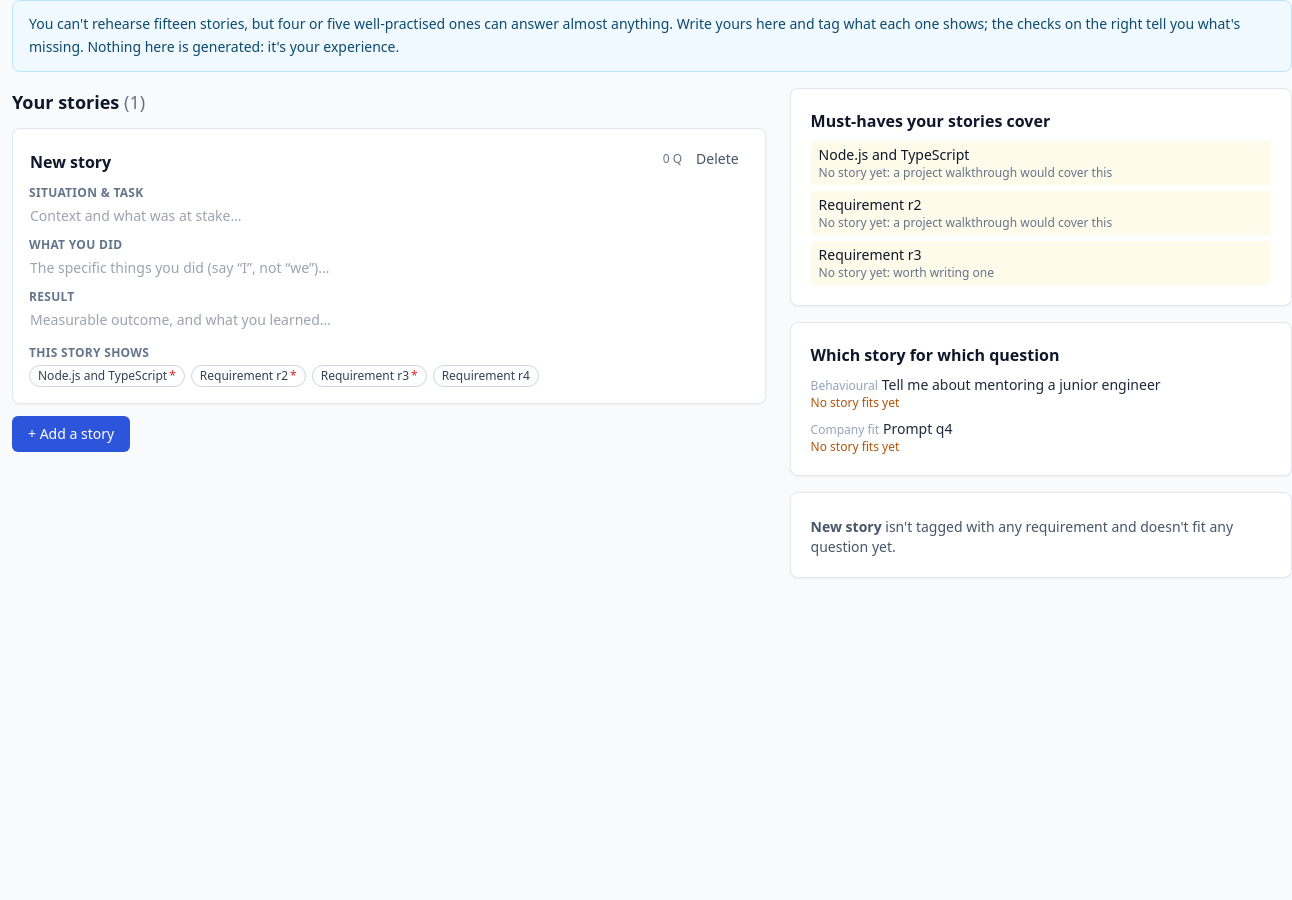
Test: StoryBank › adds, edits, tags and deletes stories; saves after a pause; shows coverage and matches
This screenshot has width=1292, height=900.
Earlier steps of the test are not shown.
Later steps or results of the test are not shown.
Click the button "+ Add a story".
click(71, 434)  # box [12, 416, 130, 452]
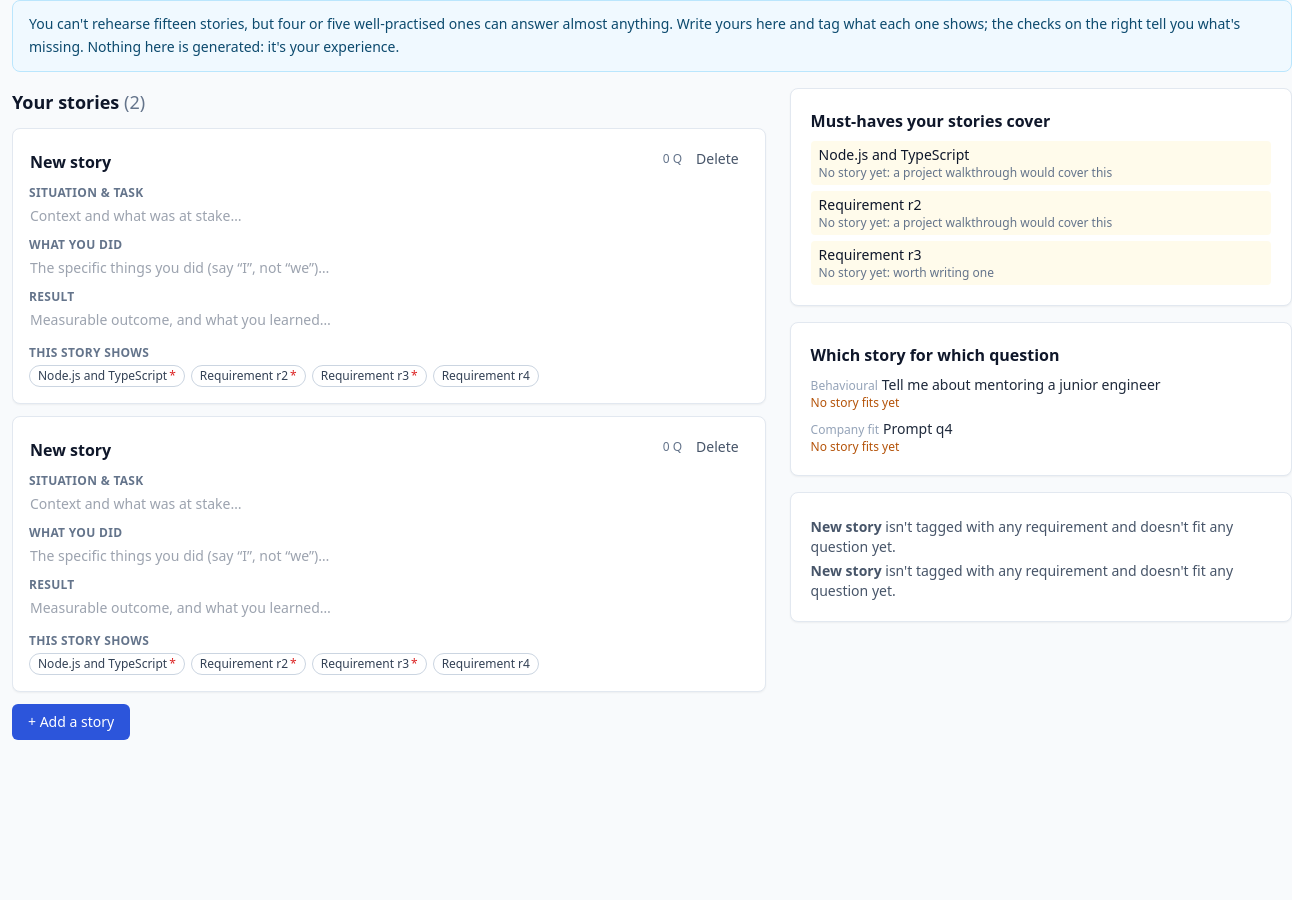
Replace the text in the text box named "Story s1 title" with "Mentoring Sam" at (342, 160), box [23, 144, 661, 176]
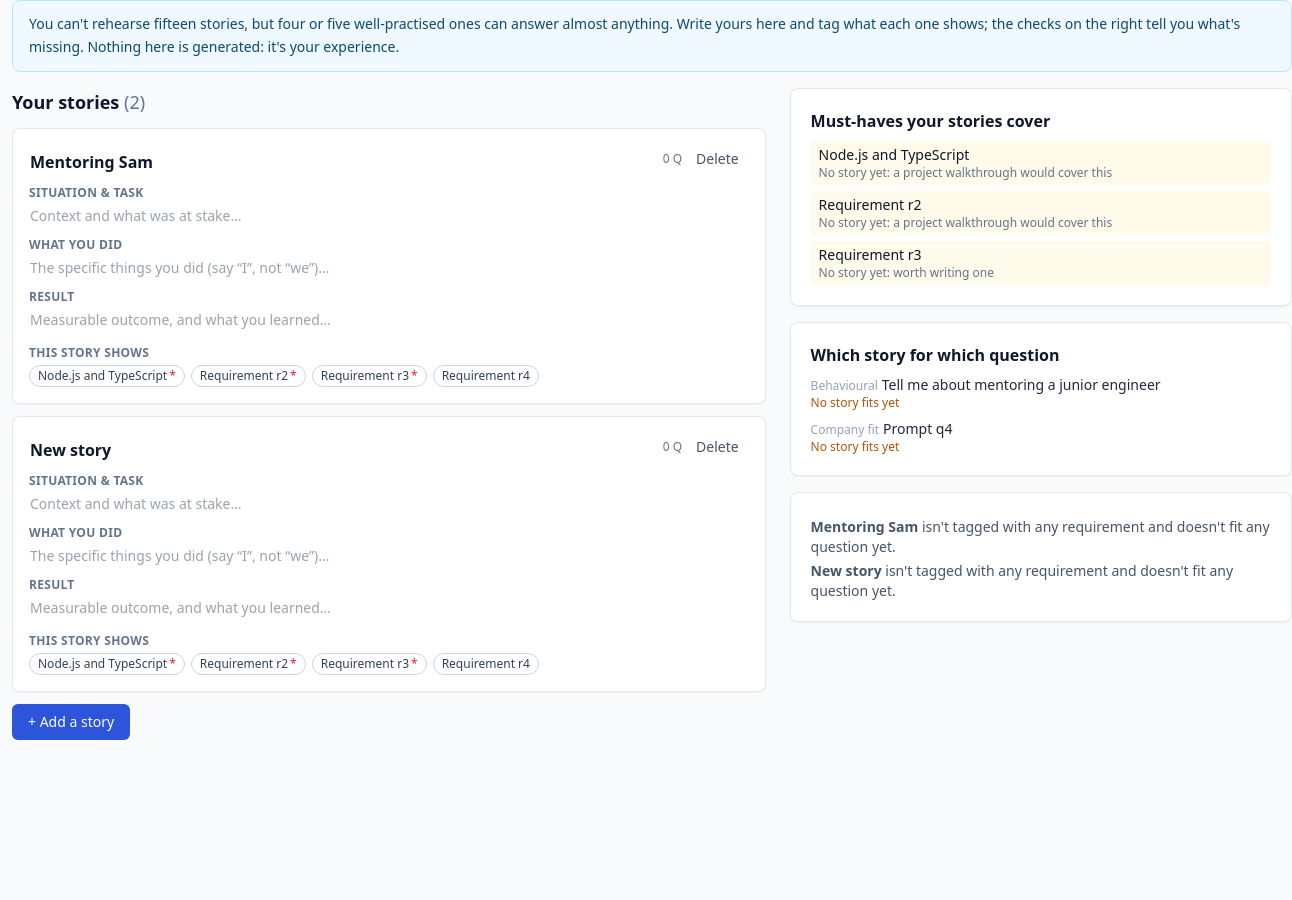
Type "I paired with a junior engineer weekly" into the text box named "Mentoring Sam: action".
click(383, 266); type("I paired with a junior engineer weekly")  # box [23, 252, 743, 280]
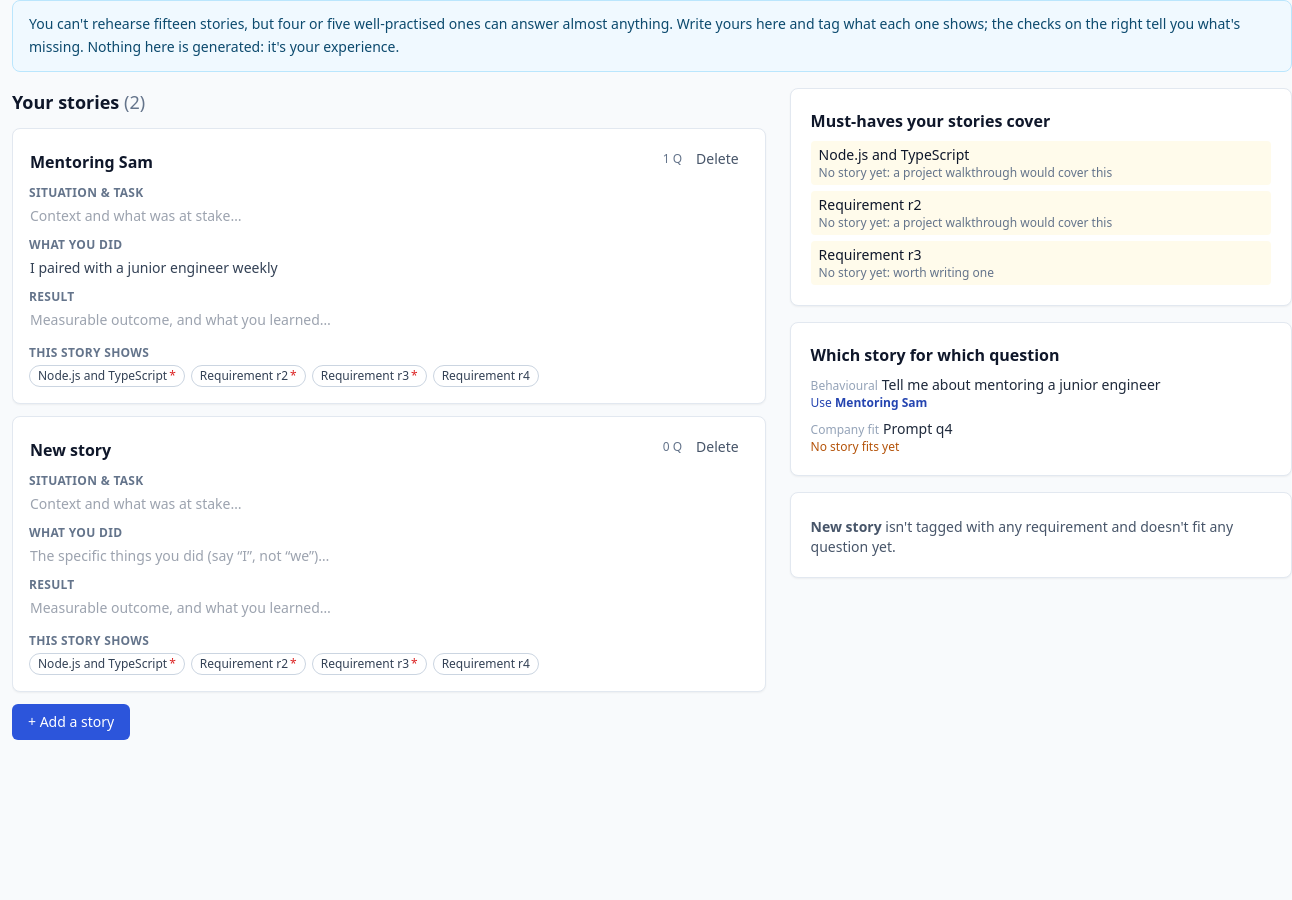
Click the 1st button "Requirement r3*".
click(369, 376)  # box [312, 364, 427, 386]
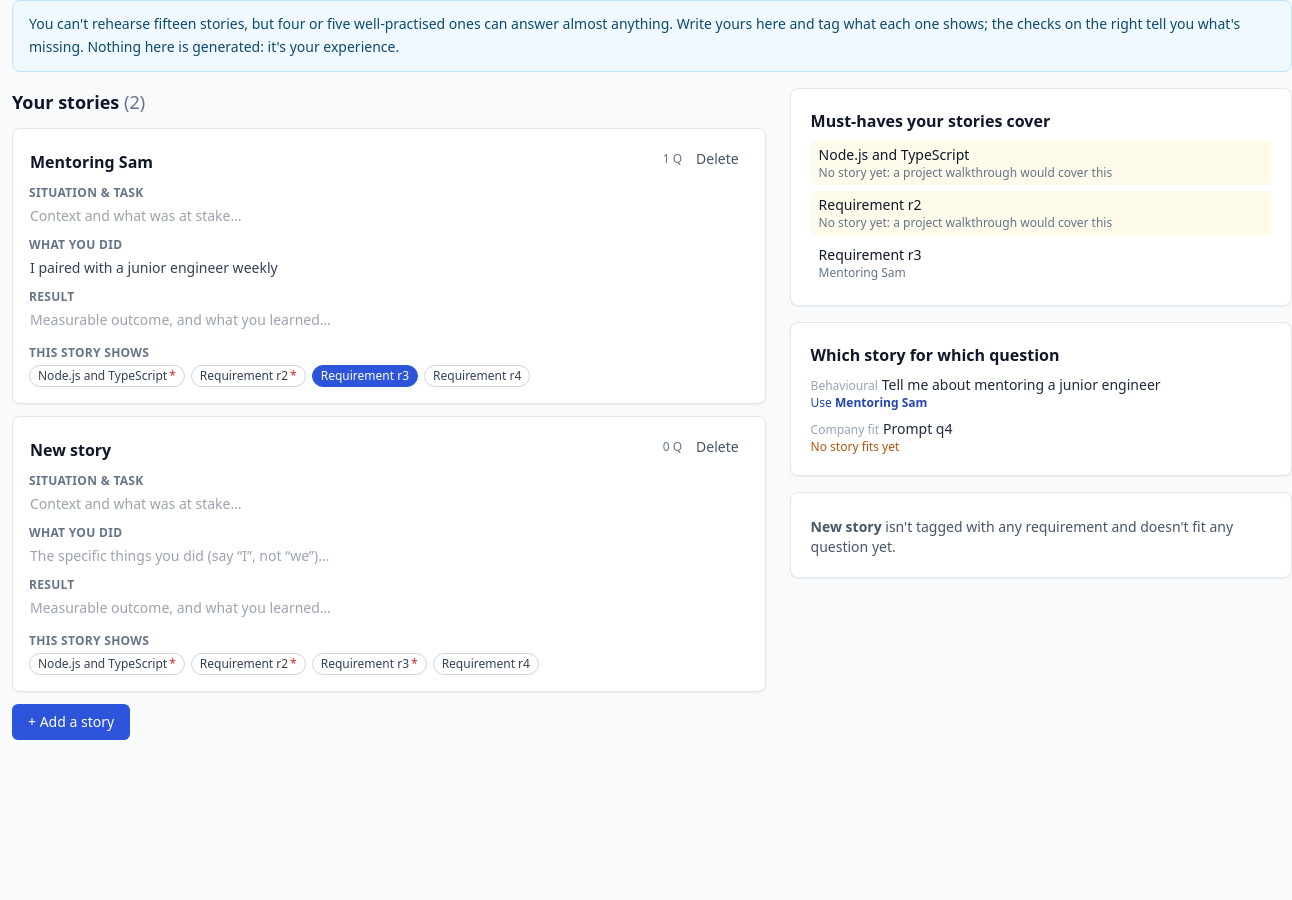
Click the 1st button "Node.js and TypeScript*".
click(107, 376)  # box [29, 364, 185, 386]
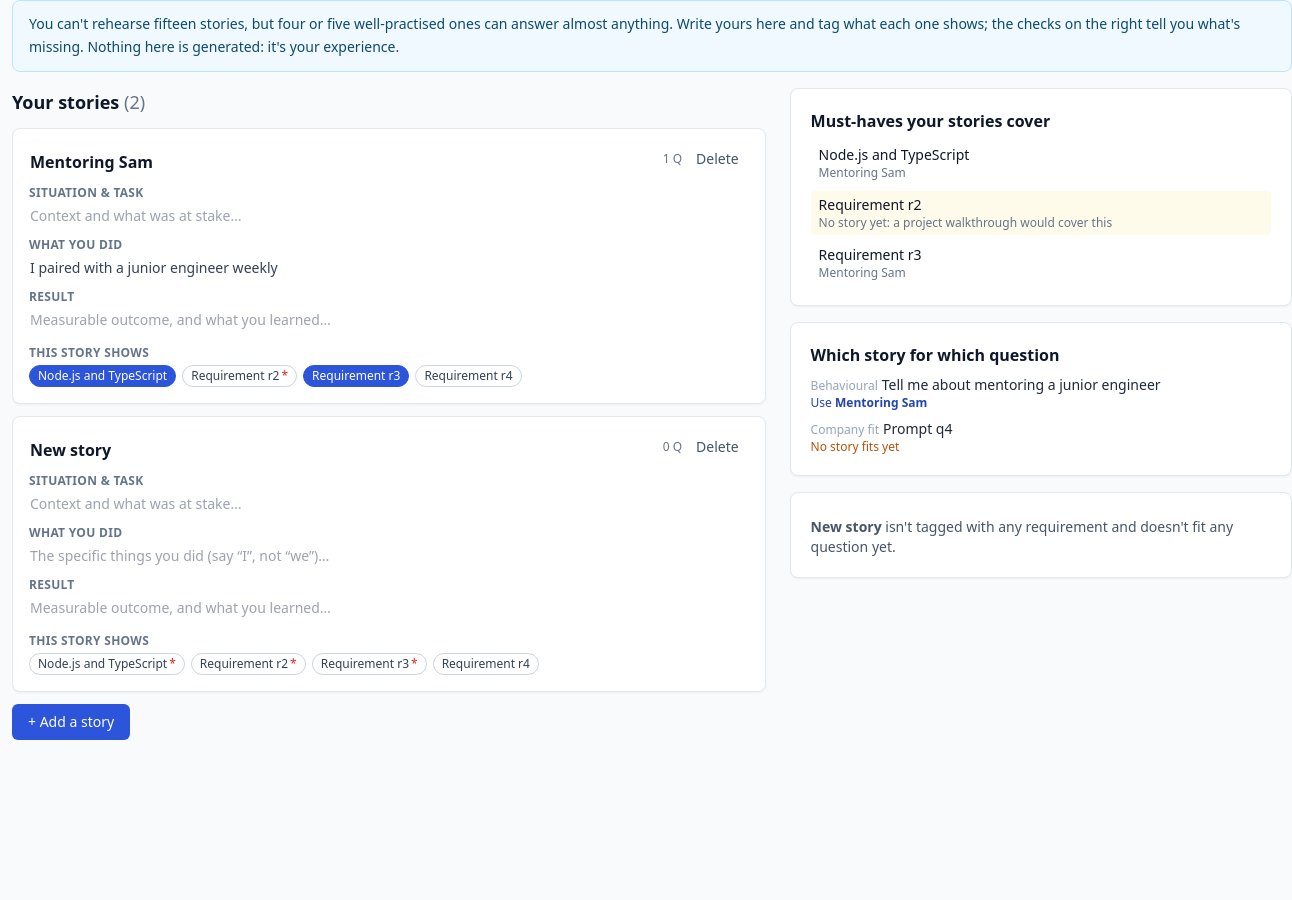
Click the button "Node.js and TypeScript".
click(103, 376)  # box [29, 364, 176, 386]
Wait 700 ms
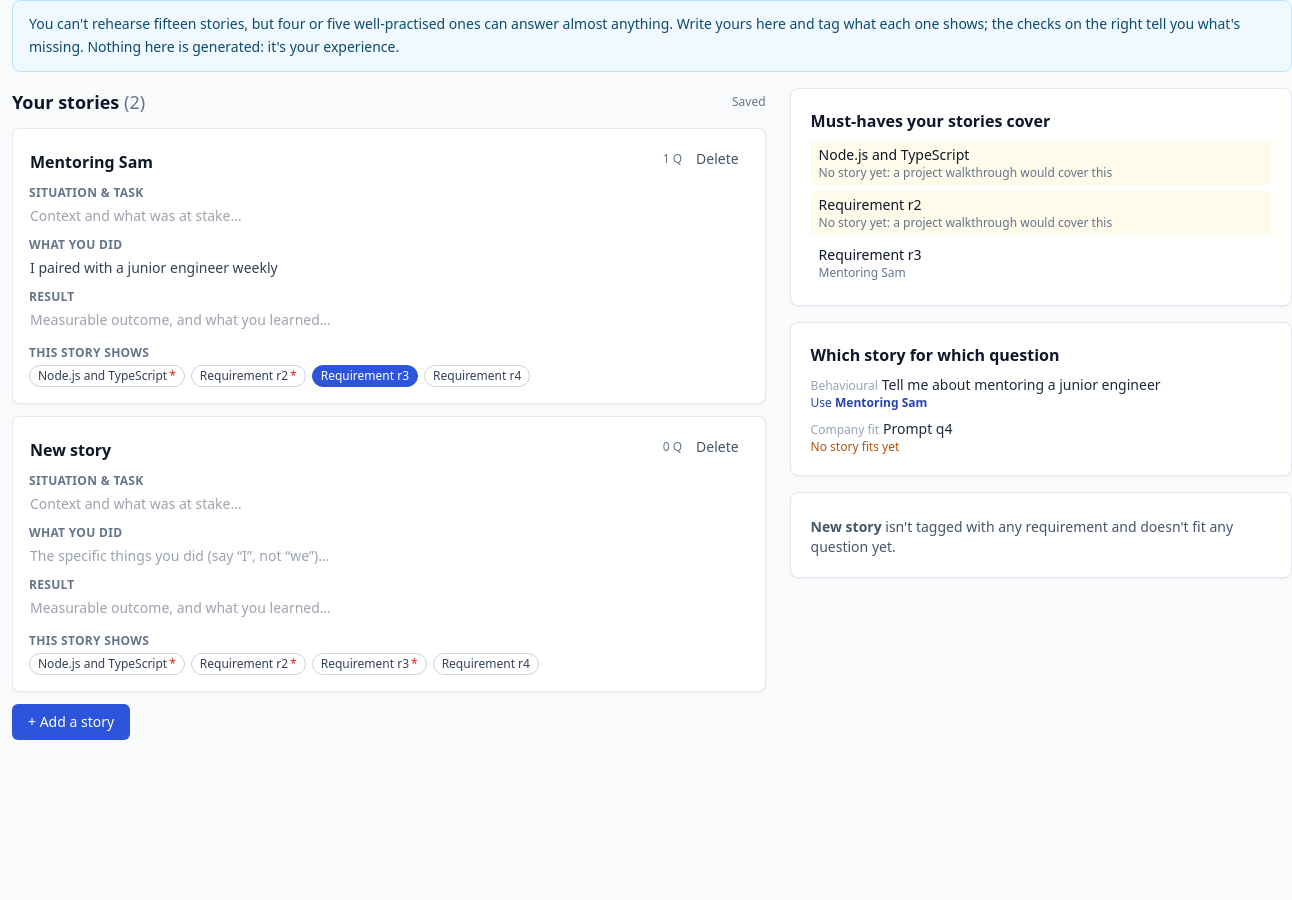
Check: the text "Use" is shown, box [811, 394, 835, 410]
Check: the text "isn.t tagged with any requirement and doesn.t fit any question yet" is shown, box [811, 516, 1233, 556]
Check: the text "Saved" is shown, box [732, 94, 766, 110]
